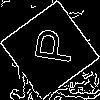P: (25, 25, 76, 66)
